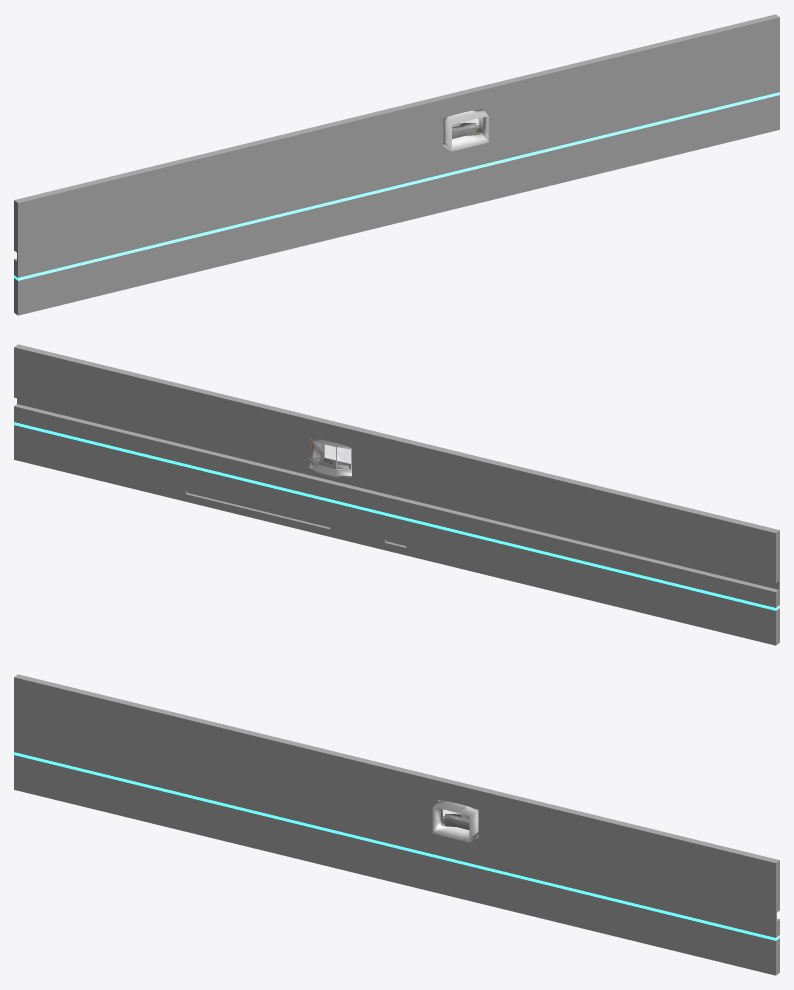
The model's file is 3rd room right wall.fbx.
3 renders of one model, top to bottom at view 1: azimuth 30°, elevation 25°; view 2: azimuth 150°, elevation 25°; view 3: azimuth 330°, elevation 25°, orthographic.
Visible parts, largest first — view 1: Cube.002; view 2: Cube.002; view 3: Cube.002.
Part boxes in pixels (x1,y1,x2,y2): Cube.002: (14, 14, 779, 315); Cube.002: (14, 344, 779, 645); Cube.002: (14, 674, 779, 975).
Size of the model in its own units: 10660 by 1505 by 385.
